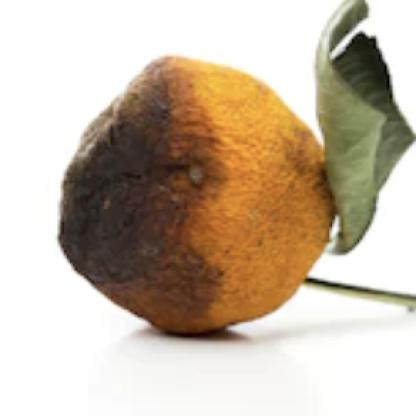rotten: (58, 58, 343, 337)
